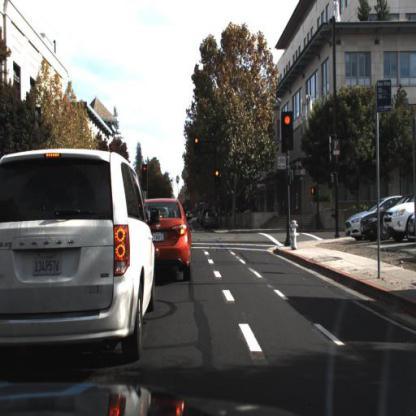car: (1, 146, 157, 368), (153, 195, 193, 285), (382, 199, 416, 243), (358, 209, 387, 242), (199, 208, 222, 234), (347, 215, 366, 242), (204, 212, 220, 230)
trafficLight-Red: (283, 111, 295, 153), (192, 135, 202, 161), (214, 168, 221, 191), (194, 137, 200, 156)
trafficLight-RedLeft: (142, 164, 149, 194), (141, 163, 150, 180)
